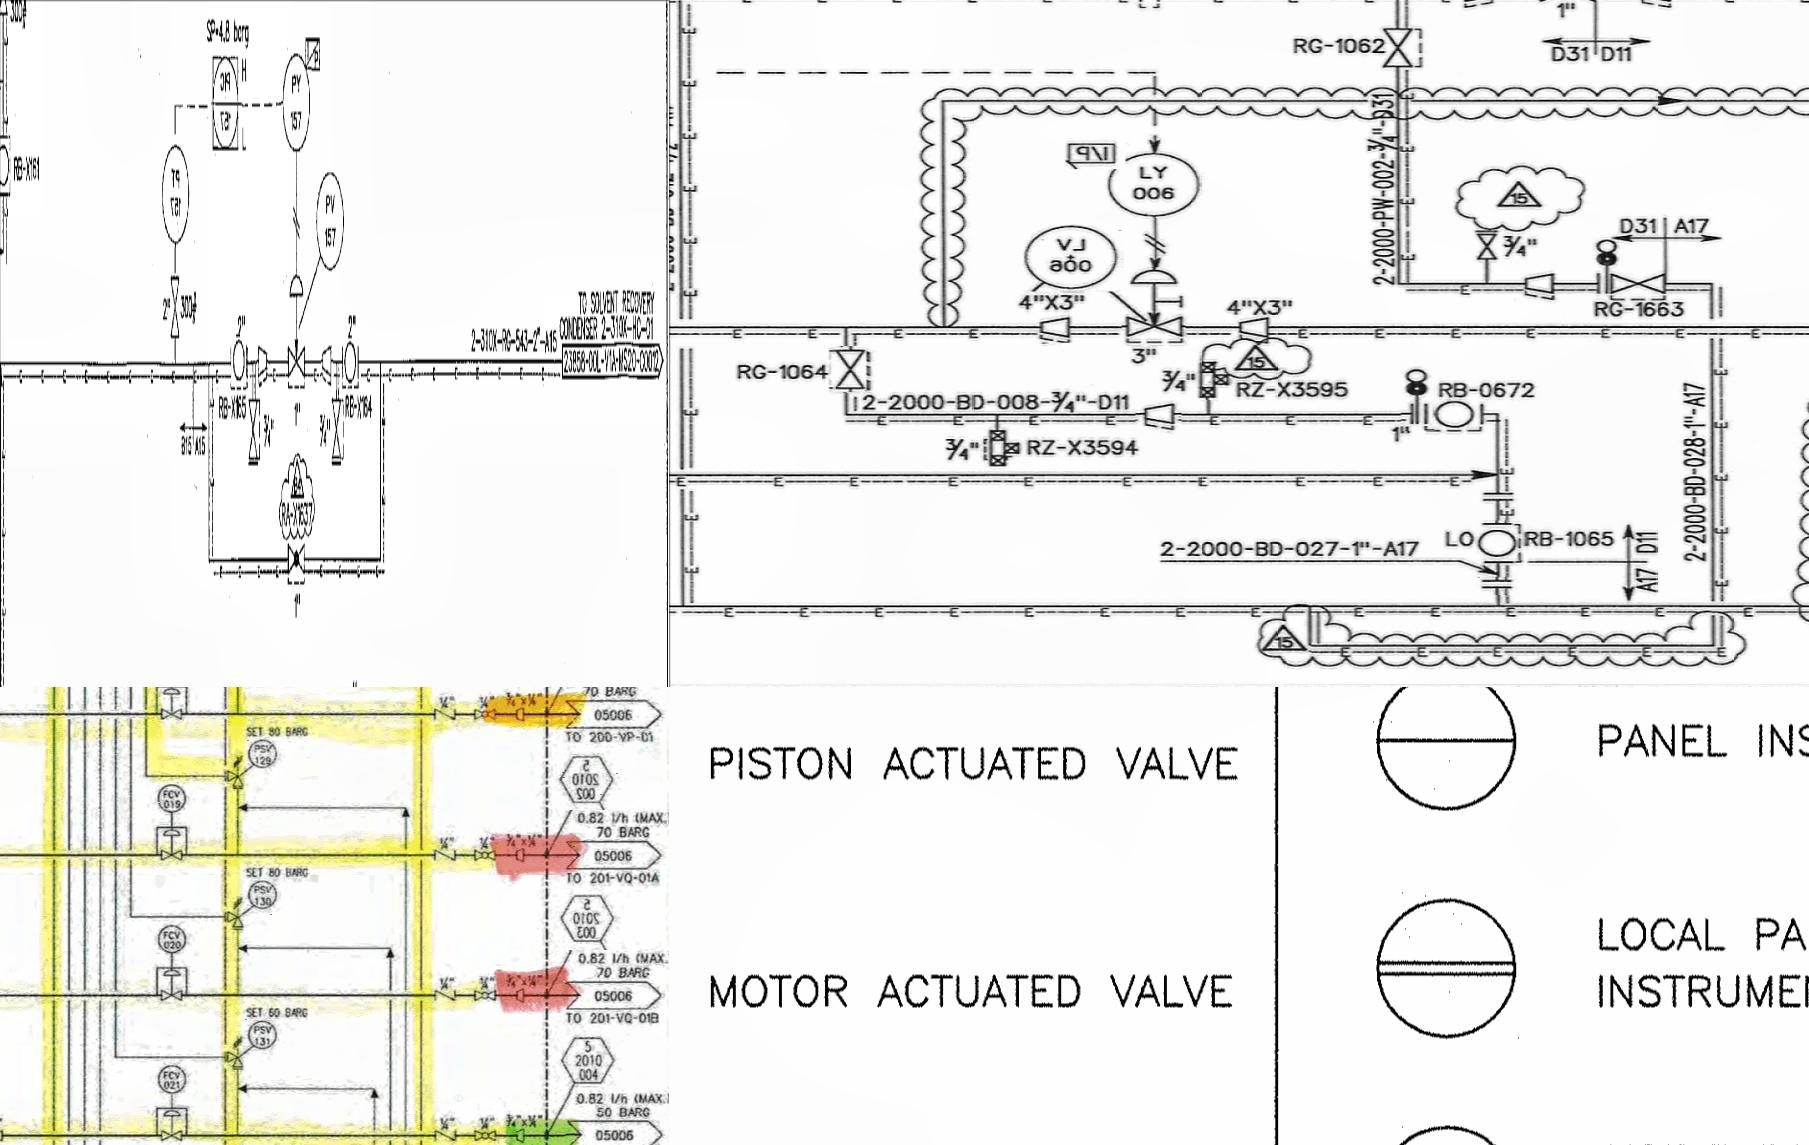ANGLE RELIEF VALVE: (222, 749, 248, 797), (224, 888, 247, 939), (223, 1038, 251, 1076)
CONCENTRIC REDUCER: (853, 269, 890, 299), (508, 984, 531, 1009), (320, 342, 334, 387), (257, 335, 268, 385), (512, 847, 530, 869), (512, 1125, 530, 1145), (513, 706, 529, 727)
DCS ACCESSIBLE: (211, 53, 243, 164)
DIAPHRAGM ACTUATED VALVE: (283, 260, 309, 389), (158, 967, 189, 1016), (158, 823, 185, 876), (156, 687, 187, 728), (158, 1107, 189, 1145)
END FLANGED: (806, 484, 857, 508), (807, 576, 854, 595)
FIELD INSTRUMENT: (281, 51, 311, 158), (160, 144, 190, 248), (315, 166, 344, 272), (807, 521, 857, 561), (244, 875, 281, 917), (765, 398, 807, 433), (152, 778, 190, 814), (154, 1057, 189, 1096), (154, 921, 189, 958), (247, 739, 280, 773), (243, 1020, 280, 1050), (341, 336, 359, 392), (231, 335, 247, 385)
GATE VALVE: (937, 273, 1005, 299), (709, 26, 750, 69), (247, 389, 261, 474), (798, 230, 835, 263), (167, 268, 182, 348), (331, 390, 344, 468)
IP CONVERTER: (303, 32, 322, 74)
LOCALPANEL INSTRUMENT: (1362, 888, 1529, 1047)
NO ACCESS INDICATOR: (556, 1028, 617, 1094), (556, 748, 618, 810), (559, 889, 616, 952)
PANEL INSTRUMENT: (1373, 687, 1523, 815)
PIPE CONNECTION FLAG: (564, 694, 665, 736), (562, 976, 663, 1013), (566, 1113, 668, 1145), (566, 839, 665, 871)
PLUG VALVE: (468, 983, 501, 1006), (471, 847, 504, 868), (469, 1125, 498, 1145), (469, 704, 497, 723)
REVISION TRIANGLE: (825, 177, 875, 211), (290, 458, 306, 507)
SPECTACLE BLIND CLOSED: (732, 363, 766, 431), (916, 232, 952, 294)
